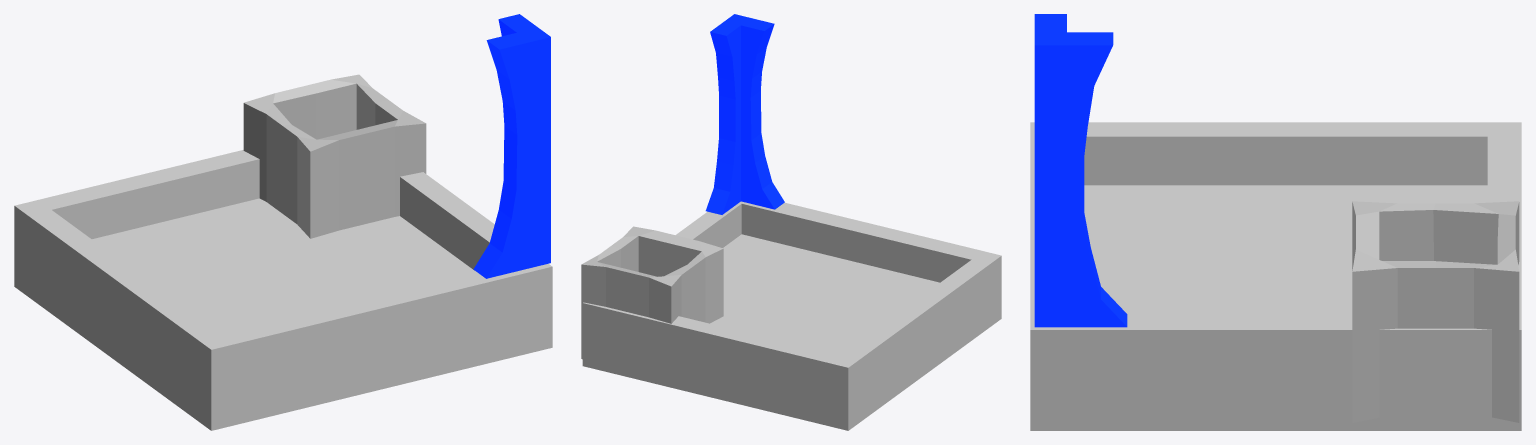
The picture shows the model from 3 angles, left to right: view 1: azimuth 30°, elevation 25°; view 2: azimuth 150°, elevation 25°; view 3: azimuth 270°, elevation 25°; orthographic projection. The views are drawn at different scales.
Parts seen in each view (by area): view 1: Cube.001, Cube, Cube.002; view 2: Cube.001, Cube, Cube.002; view 3: Cube.001, Cube, Cube.002.
Boxes of the visible parts, box(x1,y1,x2,y2) form: Cube.001: box(14, 150, 552, 430); Cube: box(243, 74, 426, 238); Cube.002: box(473, 14, 550, 278); Cube.001: box(582, 201, 1001, 430); Cube: box(581, 226, 723, 359); Cube.002: box(705, 14, 784, 214); Cube.001: box(1030, 122, 1521, 430); Cube: box(1352, 201, 1519, 422); Cube.002: box(1034, 14, 1127, 327).
Size of the model in its own units: 594 by 510 by 589.
